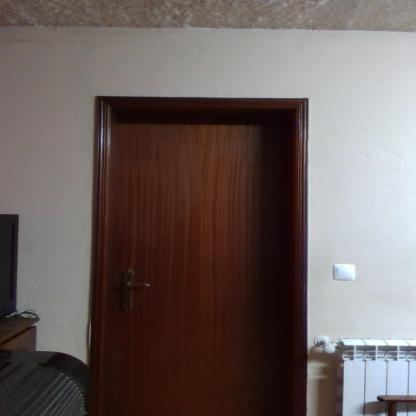closed: (69, 70, 330, 406)
